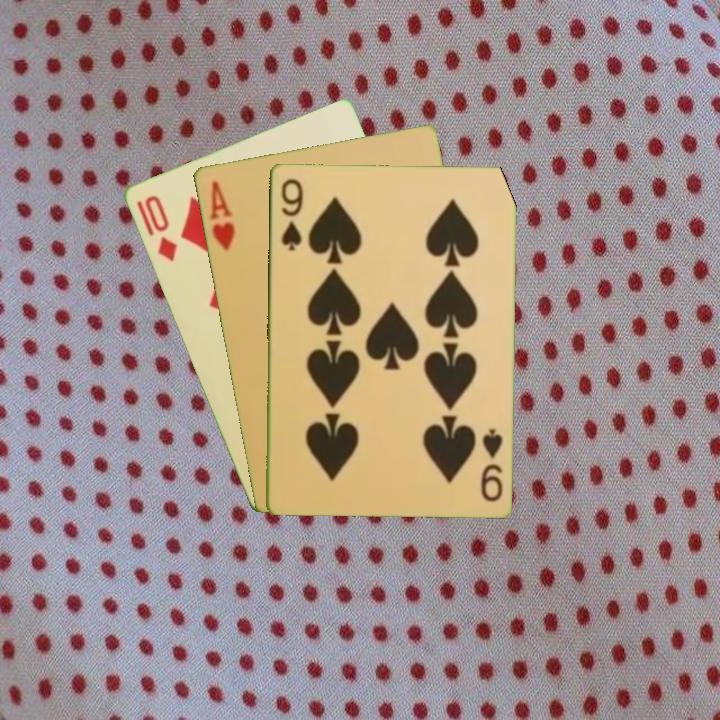10d: (140, 191, 180, 264)
9s: (277, 174, 306, 253), (476, 425, 505, 504)
Ah: (205, 177, 237, 254)
